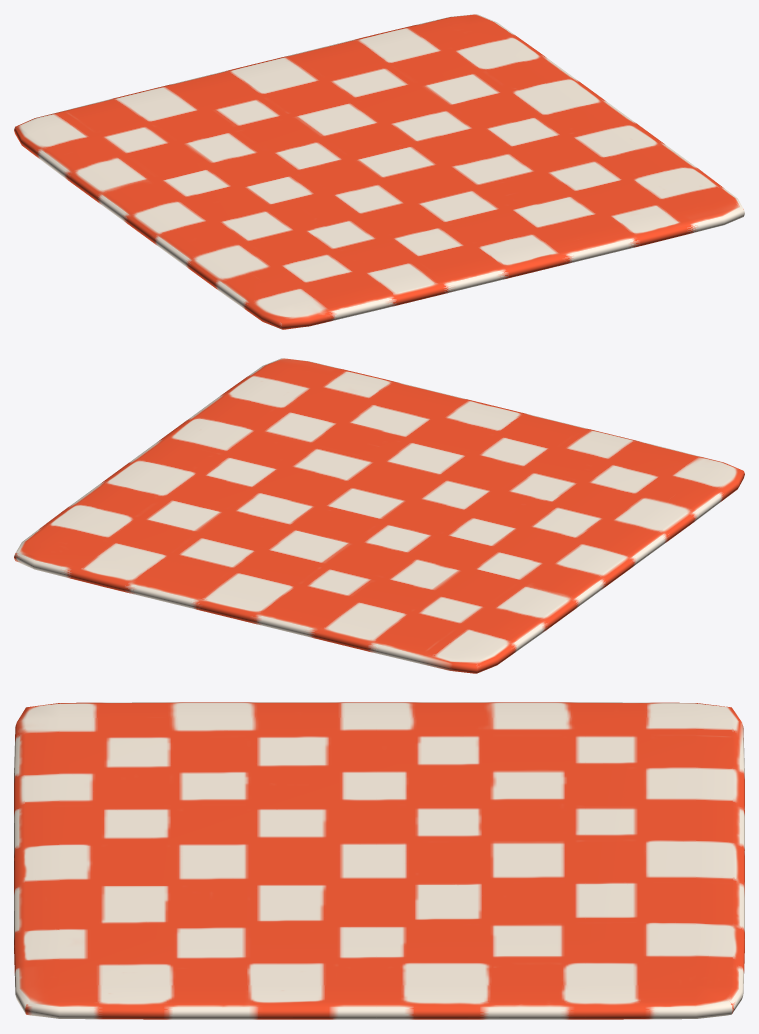
Rendered from mantel uv.fbx.
3 views of the same model, one above another, from view 1: azimuth 30°, elevation 25°; view 2: azimuth 150°, elevation 25°; view 3: azimuth 270°, elevation 25° (orthographic). The views are drawn at different scales.
Visible parts, largest first — view 1: Mantel; view 2: Mantel; view 3: Mantel.
Boxes of the visible parts, x1,y1,x2,y2 form: Mantel: (14,14,744,329); Mantel: (14,358,744,673); Mantel: (14,702,744,1019).
Bounding box in the file's own units: 811 × 25.06 × 811.
